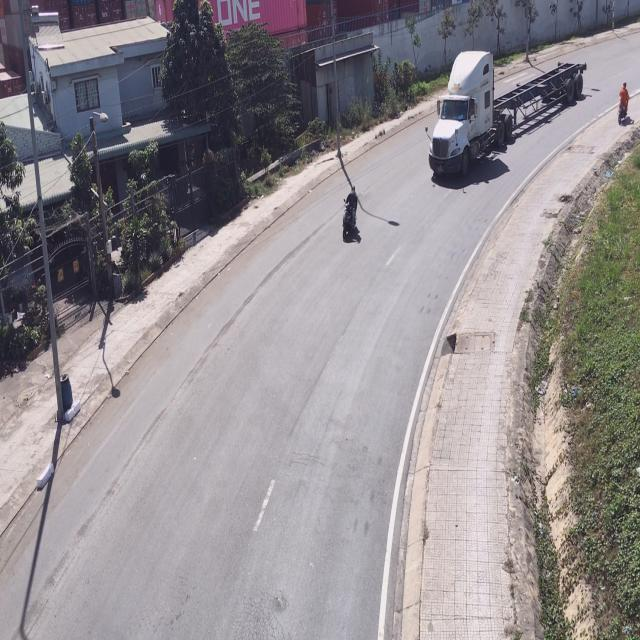motorbike: (341, 182, 361, 245), (617, 82, 631, 125)
truck: (428, 48, 586, 184)
